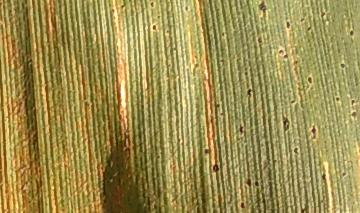tarspot: (256, 1, 270, 23), (280, 109, 291, 132), (309, 122, 318, 141), (337, 59, 347, 69), (237, 124, 246, 135), (244, 177, 252, 189), (347, 27, 355, 39), (212, 163, 221, 173), (255, 34, 263, 45), (284, 18, 291, 30), (291, 145, 300, 154), (318, 10, 327, 19), (238, 200, 246, 210), (202, 147, 212, 155), (319, 173, 327, 183), (246, 87, 254, 97), (217, 57, 227, 65), (118, 2, 128, 10), (306, 74, 313, 85), (150, 23, 158, 32), (349, 111, 358, 119), (305, 25, 313, 33), (334, 95, 342, 103), (340, 170, 347, 179), (148, 1, 157, 8), (183, 3, 190, 12), (349, 98, 356, 107), (214, 100, 221, 109), (289, 97, 296, 106), (242, 64, 249, 73), (253, 180, 260, 188), (292, 58, 299, 66), (277, 47, 284, 55), (109, 6, 116, 14), (219, 30, 226, 38), (243, 69, 249, 78), (281, 53, 289, 59), (299, 207, 306, 213), (156, 13, 162, 20), (164, 28, 170, 35)
